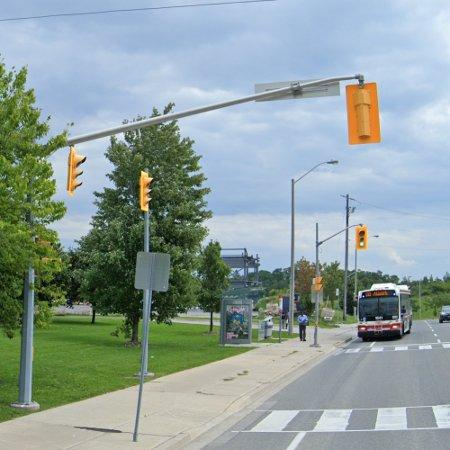traffic lights: (347, 82, 382, 144)
